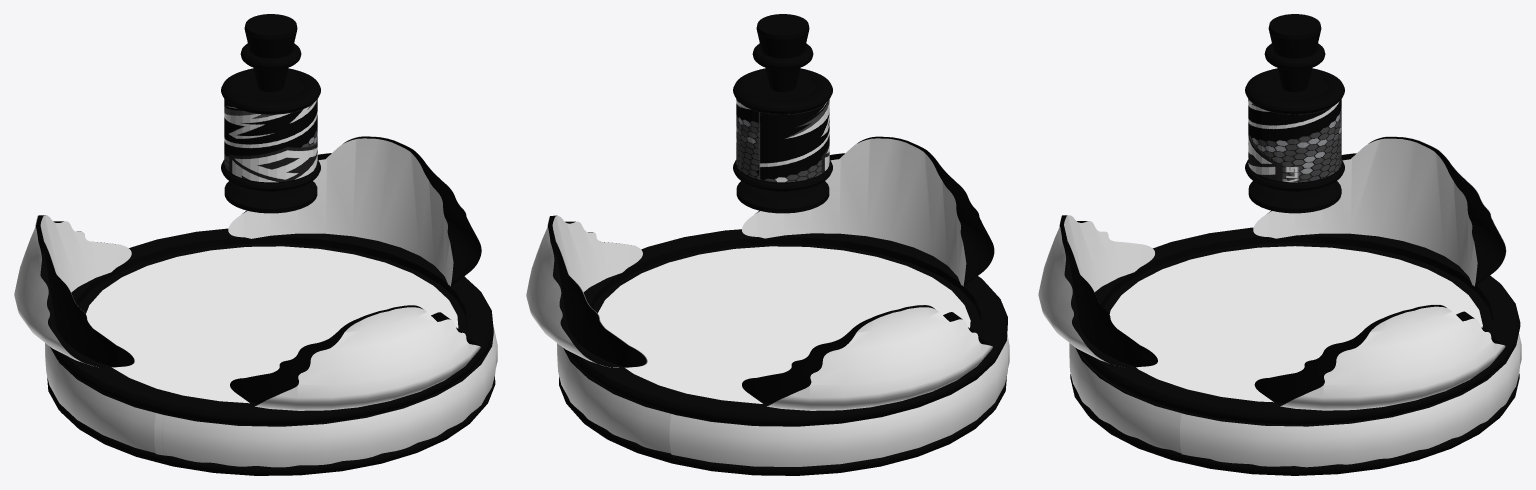
File: Tebok_Lovebird.glb
The picture shows the model from 3 angles, left to right: view 1: azimuth 30°, elevation 25°; view 2: azimuth 150°, elevation 25°; view 3: azimuth 270°, elevation 25°; orthographic projection.
Visible parts, largest first — view 1: decal_tebok_bawah_lb, tebok_lb, decal_cincin_lb, decal_kaki_dalam_lb, decal_kaki_luar_lb, pion_lb, decal_pion_lb; view 2: decal_tebok_bawah_lb, tebok_lb, decal_cincin_lb, decal_kaki_dalam_lb, decal_kaki_luar_lb, pion_lb, decal_pion_lb; view 3: decal_tebok_bawah_lb, tebok_lb, decal_cincin_lb, decal_kaki_dalam_lb, decal_kaki_luar_lb, pion_lb, decal_pion_lb.
Part boxes in pixels (x1=…): decal_tebok_bawah_lb: x1=86, y1=246, x2=458, y2=403; tebok_lb: x1=36, y1=136, x2=495, y2=475; decal_cincin_lb: x1=45, y1=326, x2=497, y2=467; decal_kaki_dalam_lb: x1=40, y1=138, x2=453, y2=367; decal_kaki_luar_lb: x1=14, y1=136, x2=481, y2=410; pion_lb: x1=221, y1=14, x2=320, y2=213; decal_pion_lb: x1=224, y1=99, x2=317, y2=182; decal_tebok_bawah_lb: x1=598, y1=246, x2=970, y2=403; tebok_lb: x1=548, y1=136, x2=1007, y2=475; decal_cincin_lb: x1=557, y1=335, x2=1009, y2=466; decal_kaki_dalam_lb: x1=552, y1=138, x2=966, y2=378; decal_kaki_luar_lb: x1=526, y1=136, x2=994, y2=410; pion_lb: x1=733, y1=14, x2=832, y2=213; decal_pion_lb: x1=736, y1=99, x2=829, y2=182; decal_tebok_bawah_lb: x1=1109, y1=246, x2=1482, y2=402; tebok_lb: x1=1059, y1=137, x2=1520, y2=475; decal_cincin_lb: x1=1069, y1=334, x2=1521, y2=467; decal_kaki_dalam_lb: x1=1064, y1=138, x2=1477, y2=354; decal_kaki_luar_lb: x1=1038, y1=136, x2=1506, y2=410; pion_lb: x1=1245, y1=14, x2=1344, y2=213; decal_pion_lb: x1=1248, y1=99, x2=1341, y2=182.
Size of the model in its own units: 5.74 by 4.6 by 5.64.
Materials: 7 (1 with a texture image).
